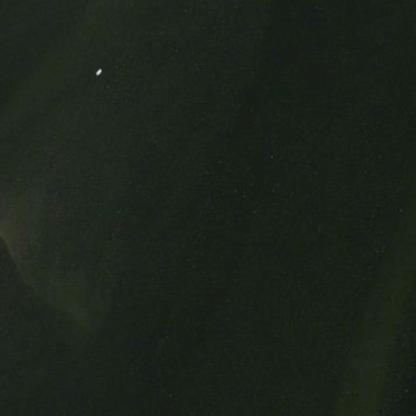ship: (92, 66, 104, 76)
